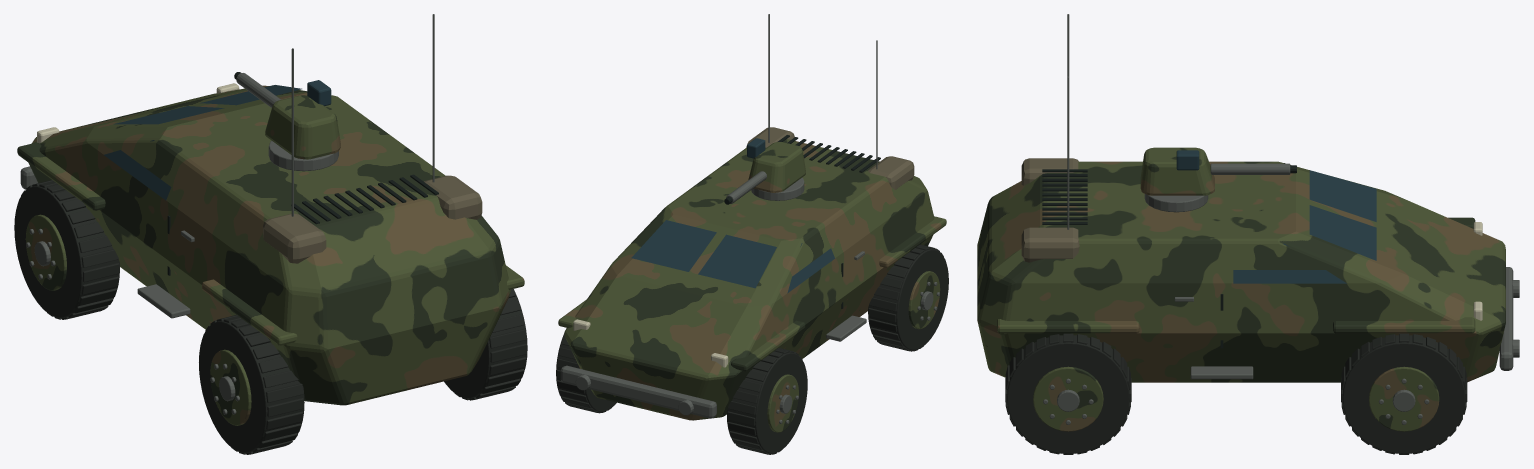
Rendered from recon-lod0.glb.
3 views of the same model, side by side, from view 1: azimuth 30°, elevation 25°; view 2: azimuth 150°, elevation 25°; view 3: azimuth 270°, elevation 25° (orthographic). The views are drawn at different scales.
Visible parts, largest first — view 1: Chassis Recon camouflage, Wheel.L.-1.5 Recon rubber, Wheel.L.1.45 Recon rubber, Wheel.R.-1.5 Recon rubber, Chassis Recon stowage, Turret Recon camouflage, Chassis Recon optical glass, Chassis Recon hardware, Wheel.L.-1.5 Recon camouflage, Chassis Recon recesses, Wheel.L.1.45 Recon camouflage, Turret Recon hardware (+3 smaller); view 2: Chassis Recon camouflage, Chassis Recon optical glass, Wheel.L.1.45 Recon rubber, Wheel.L.-1.5 Recon rubber, Chassis Recon hardware, Turret Recon camouflage, Wheel.R.1.45 Recon rubber, Chassis Recon stowage, Wheel.L.-1.5 Recon camouflage, Wheel.L.1.45 Recon camouflage, Chassis Recon recesses, Turret Recon hardware (+1 smaller); view 3: Chassis Recon camouflage, Wheel.R.1.45 Recon rubber, Wheel.R.-1.5 Recon rubber, Chassis Recon optical glass, Wheel.R.1.45 Recon camouflage, Wheel.R.-1.5 Recon camouflage, Turret Recon camouflage, Chassis Recon hardware, Chassis Recon stowage, Chassis Recon recesses, Gun Recon hardware, Turret Recon hardware (+2 smaller).
Boxes of the visible parts, box(x1,y1,x2,y2) form: Chassis Recon camouflage: box(17, 85, 524, 405); Wheel.L.-1.5 Recon rubber: box(199, 315, 304, 454); Wheel.L.1.45 Recon rubber: box(14, 180, 119, 319); Wheel.R.-1.5 Recon rubber: box(444, 289, 527, 400); Chassis Recon stowage: box(263, 175, 482, 263); Turret Recon camouflage: box(265, 95, 340, 159); Chassis Recon optical glass: box(104, 85, 301, 200); Chassis Recon hardware: box(20, 14, 434, 318); Wheel.L.-1.5 Recon camouflage: box(210, 349, 251, 425); Chassis Recon recesses: box(167, 174, 438, 275); Wheel.L.1.45 Recon camouflage: box(25, 214, 66, 290); Turret Recon hardware: box(268, 140, 338, 171); Chassis Recon camouflage: box(558, 139, 946, 420); Chassis Recon optical glass: box(631, 210, 834, 293); Wheel.L.1.45 Recon rubber: box(727, 348, 807, 454); Wheel.L.-1.5 Recon rubber: box(868, 244, 948, 351); Chassis Recon hardware: box(560, 14, 877, 418); Turret Recon camouflage: box(748, 142, 805, 192); Wheel.R.1.45 Recon rubber: box(556, 328, 616, 413); Chassis Recon stowage: box(746, 127, 914, 189); Wheel.L.-1.5 Recon camouflage: box(908, 271, 940, 329); Wheel.L.1.45 Recon camouflage: box(767, 374, 798, 432); Chassis Recon recesses: box(777, 135, 880, 308); Turret Recon hardware: box(751, 177, 804, 200); Chassis Recon camouflage: box(977, 161, 1505, 382); Wheel.R.1.45 Recon rubber: box(1341, 333, 1467, 454); Wheel.R.-1.5 Recon rubber: box(1005, 333, 1131, 454); Chassis Recon optical glass: box(1233, 163, 1376, 283); Wheel.R.1.45 Recon camouflage: box(1369, 366, 1439, 431); Wheel.R.-1.5 Recon camouflage: box(1033, 366, 1103, 431); Turret Recon camouflage: box(1140, 147, 1214, 195); Chassis Recon hardware: box(1067, 14, 1519, 379); Chassis Recon stowage: box(1021, 158, 1079, 262); Chassis Recon recesses: box(1042, 169, 1223, 348); Gun Recon hardware: box(1210, 163, 1290, 174); Turret Recon hardware: box(1144, 194, 1208, 212).
Size of the model in its own units: 2.57 by 3.42 by 4.77.
7 materials, 1 textured.
